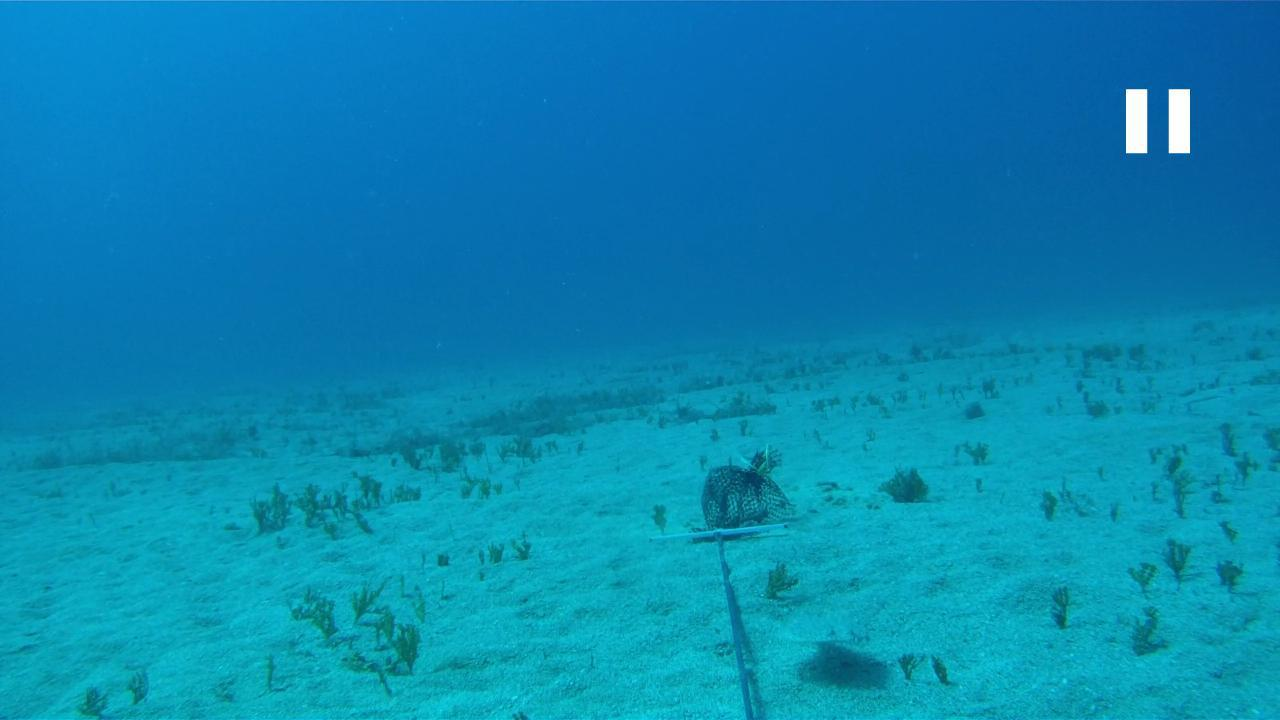bothus: (776, 598, 891, 650)
